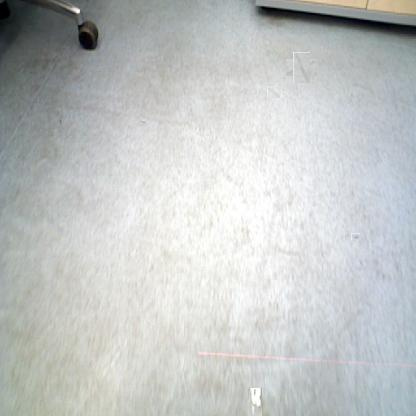liquid: (248, 388, 262, 416)
mark: (290, 55, 314, 80), (267, 86, 280, 98), (140, 118, 147, 126), (352, 233, 359, 240), (58, 119, 62, 128)
